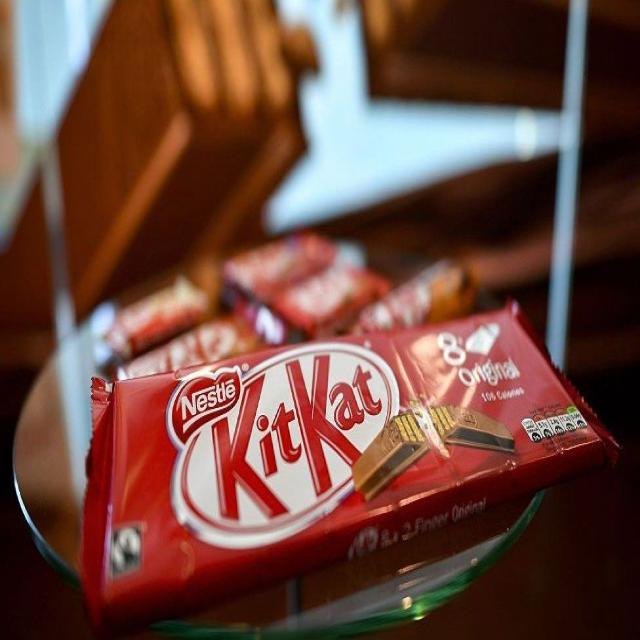kitkat: (79, 300, 615, 614)
